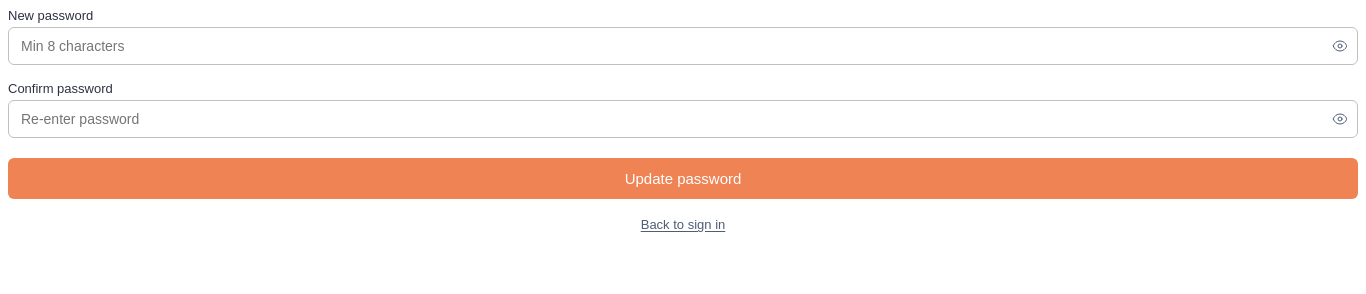
Test: ResetPasswordForm › shows mismatch error when passwords differ
In the password field labelled "New password": (683,46) [8,27,1358,65], type "Password1!"
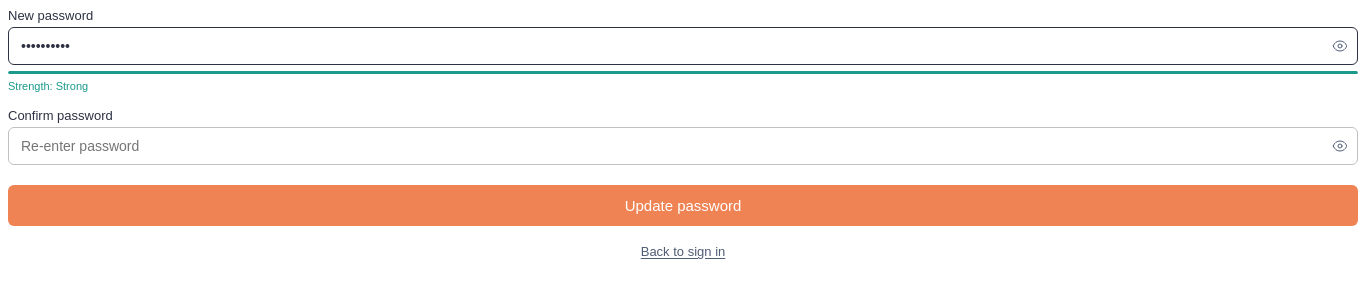
In the password field labelled "Confirm password": (683,146) [8,127,1358,165], type "Different1!"
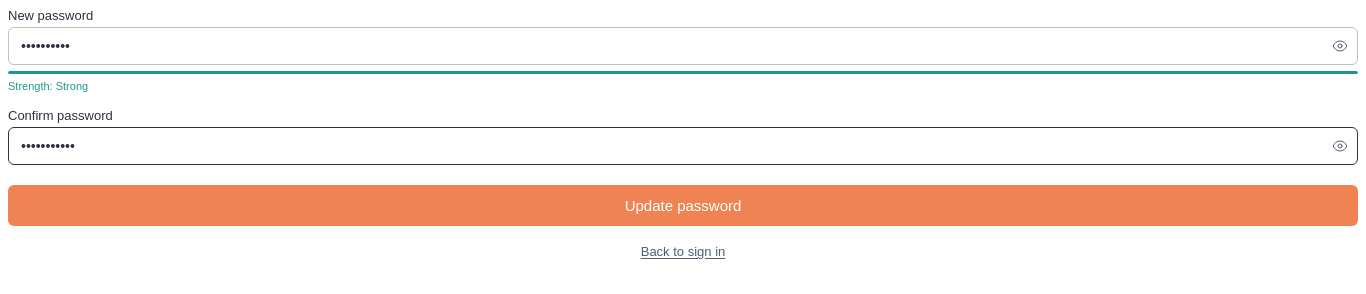
Click the button "Update password": (683,206) [8,185,1358,226]
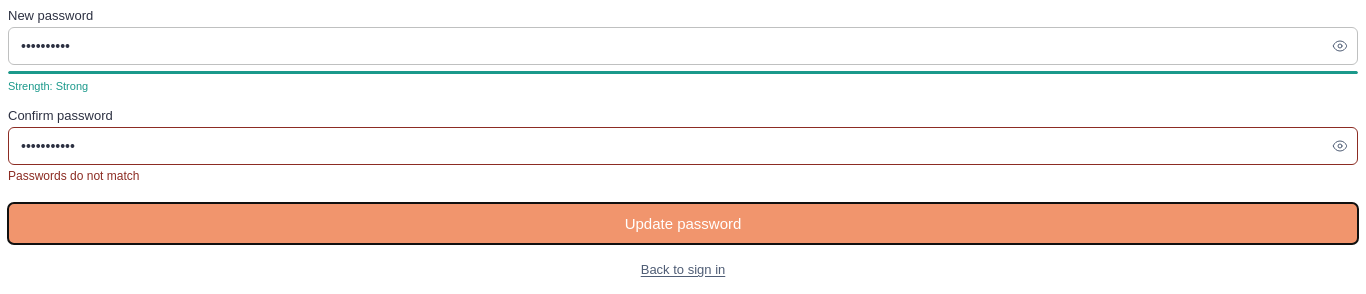
Expected: the text "Passwords do not match" is shown, [8,169,139,183]
